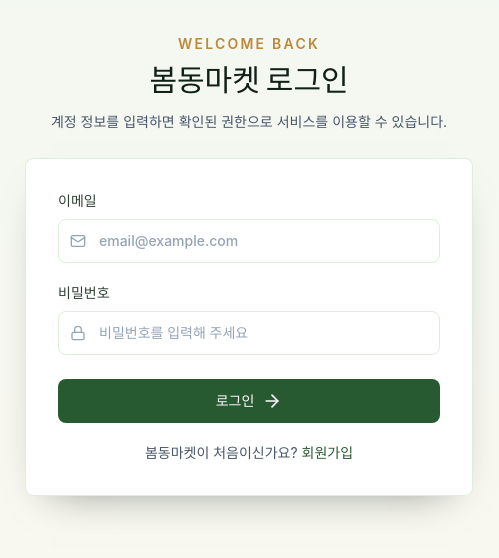
Test: LoginPage › 빈 값과 잘못된 입력에 검증 메시지를 표시한다
Click the button "로그인". click: coordinates (249, 401)
box: x1=58 y1=379 x2=440 y2=423
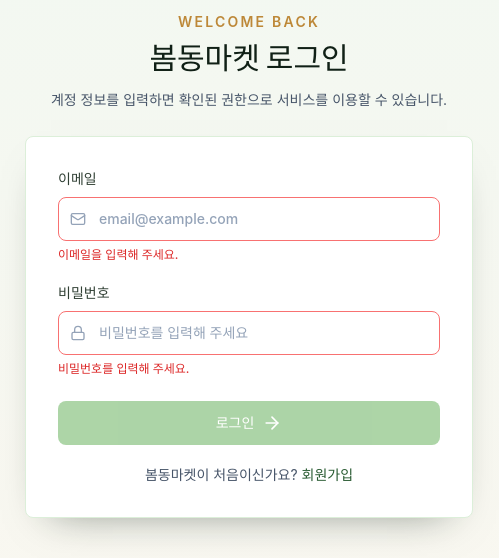
Expected: the text "이메일을 입력해 주세요." is shown, x1=58 y1=247 x2=178 y2=262
Expected: the text "비밀번호를 입력해 주세요." is shown, x1=58 y1=361 x2=190 y2=376
Expected: the button "로그인" is disabled, x1=58 y1=401 x2=440 y2=445
Type "invalid-email" into the field labelled "이메일 이메일을 입력해 주세요.". click: coordinates (249, 219)
box: x1=58 y1=197 x2=440 y2=241
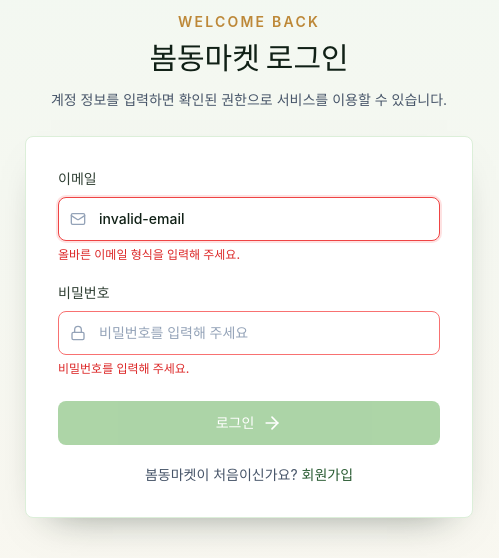
Type "1234" into the password field labelled "비밀번호 비밀번호를 입력해 주세요.". click: coordinates (249, 333)
box: x1=58 y1=311 x2=440 y2=355
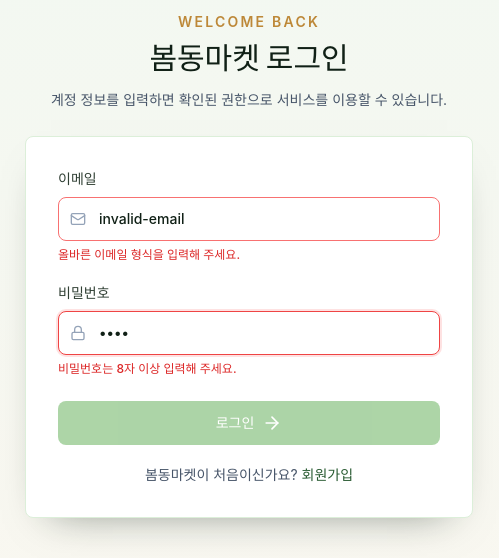
Expected: the text "올바른 이메일 형식을 입력해 주세요." is shown, x1=58 y1=247 x2=240 y2=262
Expected: the button "로그인" is disabled, x1=58 y1=401 x2=440 y2=445
Expected: the text "비밀번호는 8자 이상 입력해 주세요." is shown, x1=58 y1=361 x2=237 y2=376
Replace the text in the field labelled "이메일 올바른 이메일 형식을 입력해 주세요." with "owner@example.com". click: coordinates (249, 219)
box: x1=58 y1=197 x2=440 y2=241
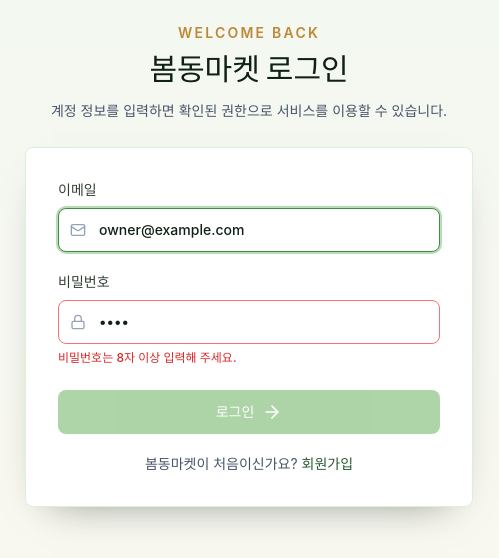
Type "12345678" into the password field labelled "비밀번호 비밀번호는 8자 이상 입력해 주세요.". click: coordinates (249, 322)
box: x1=58 y1=300 x2=440 y2=344
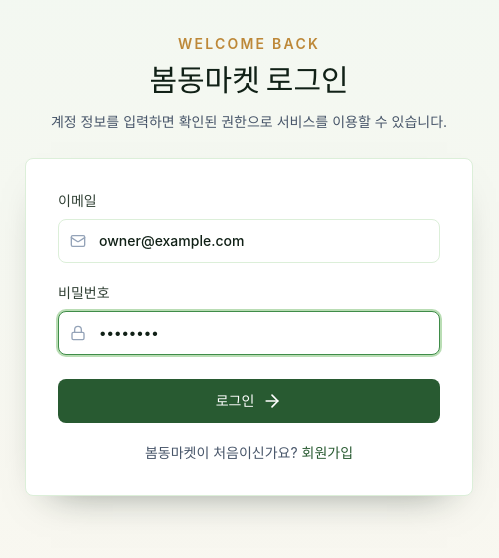
Expected: the button "로그인" is enabled, x1=58 y1=379 x2=440 y2=423
